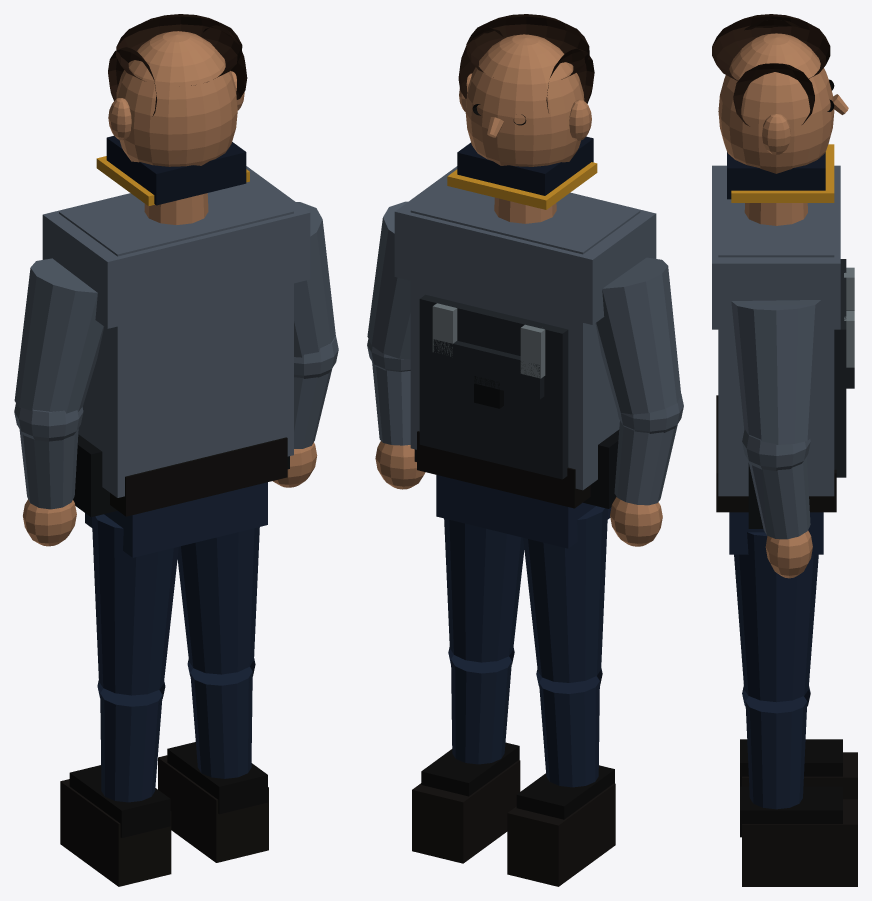
Rendered from police_character.obj.
The picture shows the model from 3 angles, left to right: view 1: azimuth 30°, elevation 25°; view 2: azimuth 150°, elevation 25°; view 3: azimuth 270°, elevation 25°; orthographic projection. The views are drawn at different scales.
Bounding box in the file's own units: 0.84 × 2.12 × 0.34.
